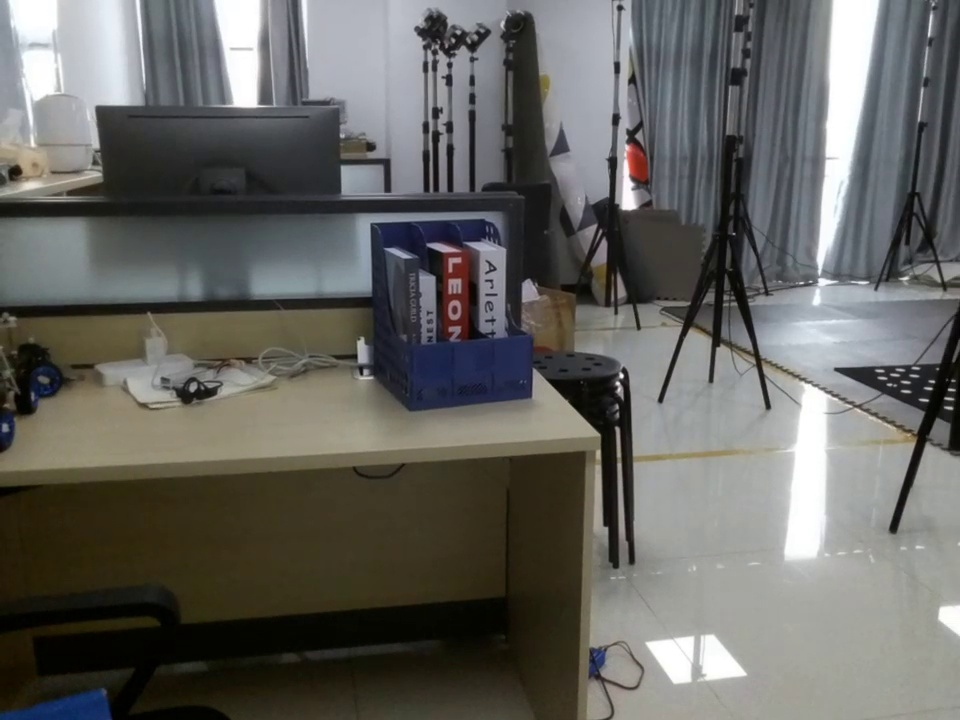files: (367, 218, 537, 412)
